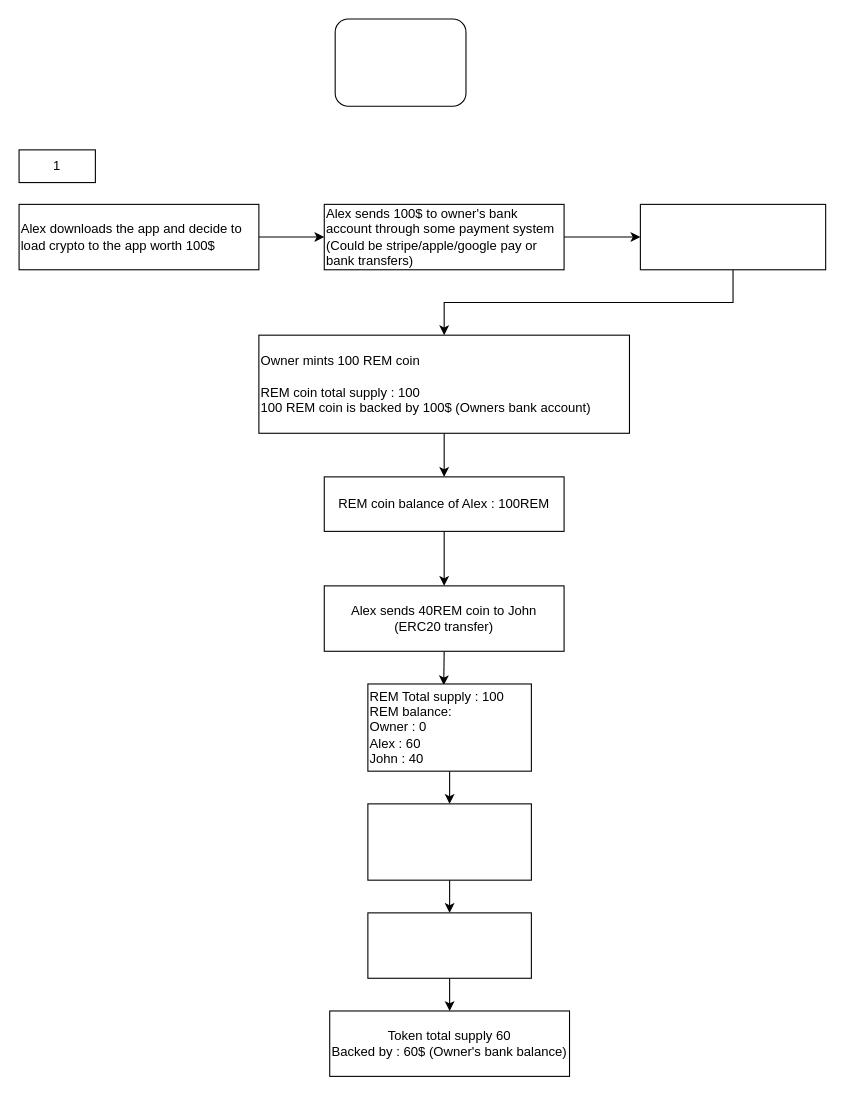
Some shapes in this 845 by 1095 pixel diagram are drawn without their labels. Each missing label, with the centre of its shape:
ERC20 Token REM Coin Initial Supply 0 Owners Balance 0: (400,62)
John decides to withdraw 40REM and transfers 40REM to owner's account: (449,841)
Owner burns 40REM coin and sends 40$ to John through some transfers: (449,945)
Owner's bank balance : 100$: (732,236)
